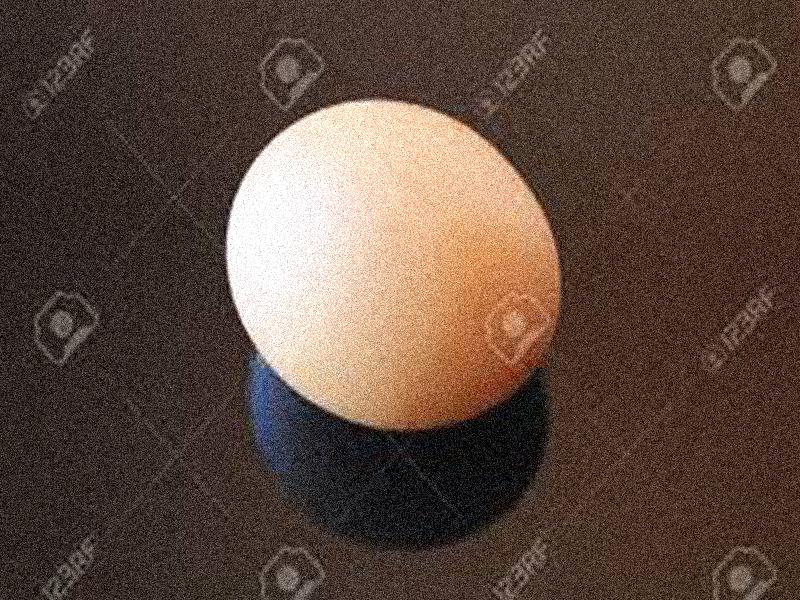Eggs: (224, 98, 559, 433)
